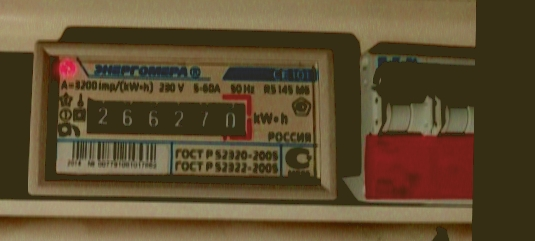0: (224, 108, 238, 128)
2: (97, 104, 110, 125), (174, 107, 187, 127)
6: (122, 105, 134, 126), (148, 107, 161, 126)
7: (200, 108, 210, 127)
screen: (75, 86, 259, 145)
